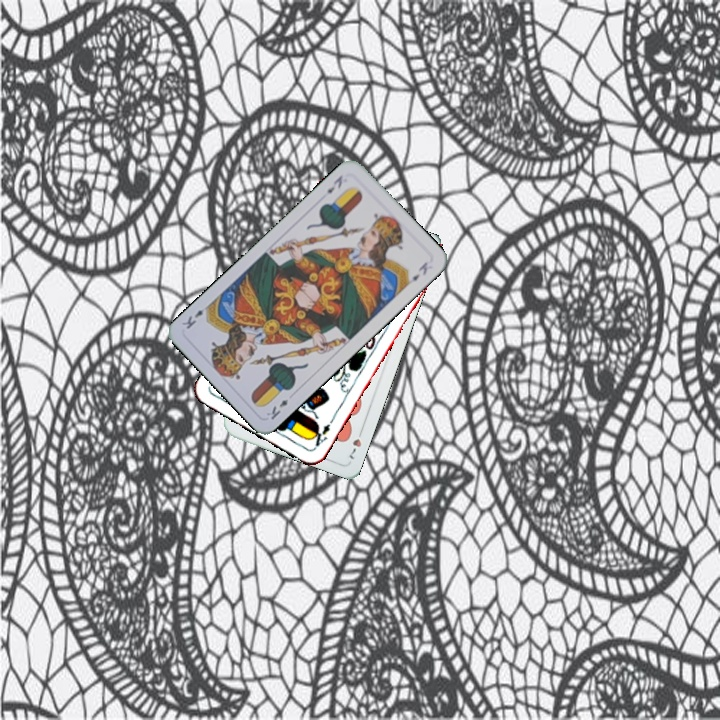EA: (308, 415, 336, 451)
EK: (262, 395, 291, 423), (322, 171, 345, 196)
H7: (344, 424, 366, 462)
